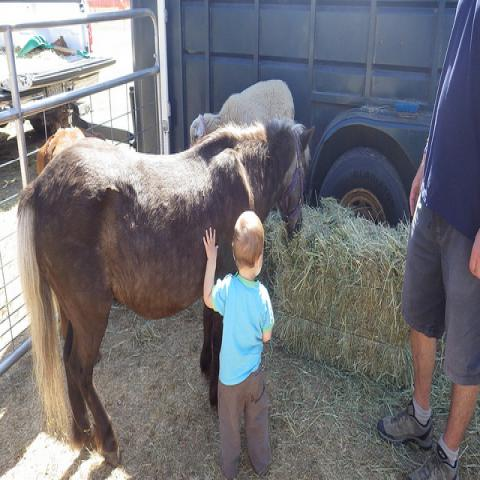truck: (169, 4, 456, 219)
